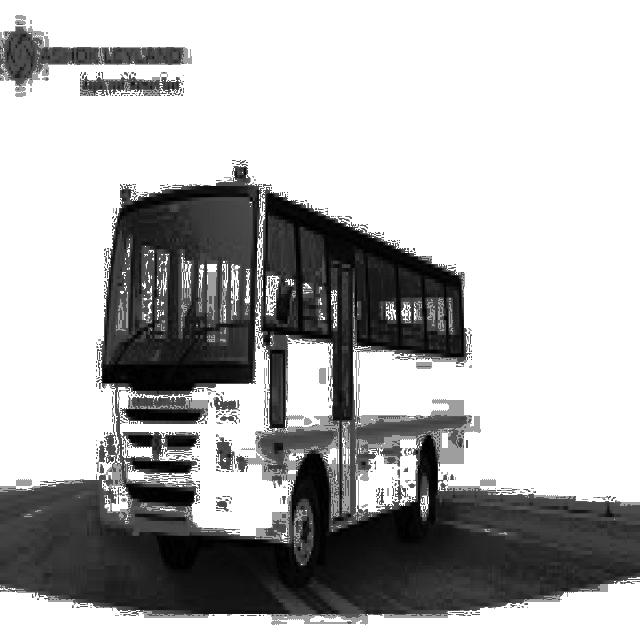Bus: (83, 135, 479, 575)
